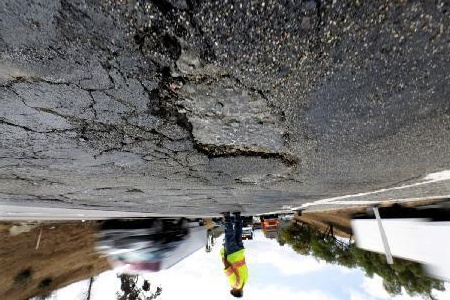pothole: (145, 68, 303, 169), (133, 0, 216, 64), (235, 170, 294, 187)
